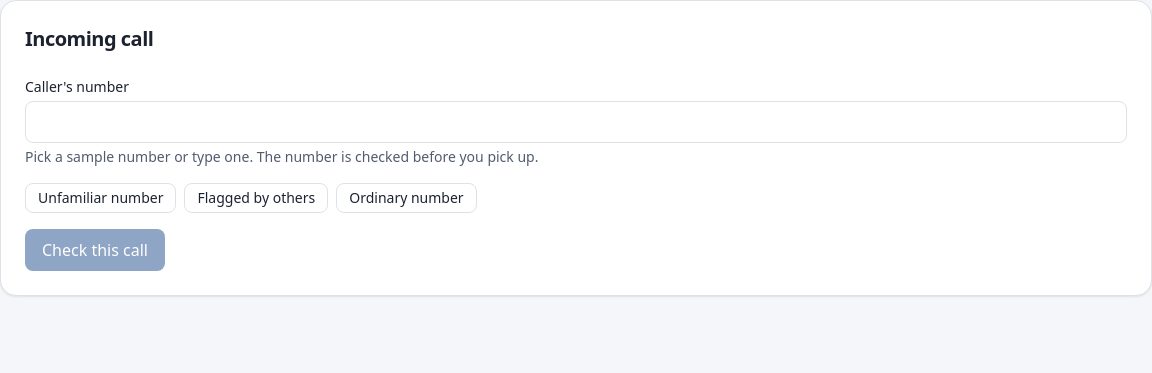
IncomingCallScreen › shows an unverified-caller warning before pickup
This screenshot has width=1152, height=373.
Click the button "Unfamiliar number": (101, 198) [25, 183, 176, 213]
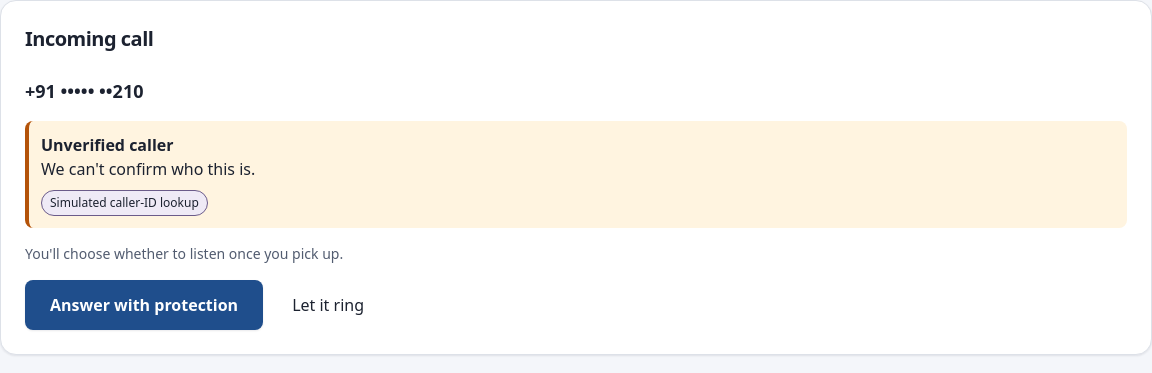
Expected: the message shows "Unverified caller", [41, 134, 174, 156]
Expected: the button "Answer with protection" is shown, [25, 280, 263, 330]
Expected: the button "Let it ring" is shown, [275, 284, 381, 326]
